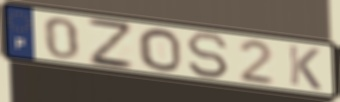0: (41, 16, 83, 60)
2: (237, 39, 277, 87)
K: (286, 43, 324, 92)
O: (136, 27, 184, 73)
S: (185, 30, 231, 80)
Z: (85, 16, 137, 71)
